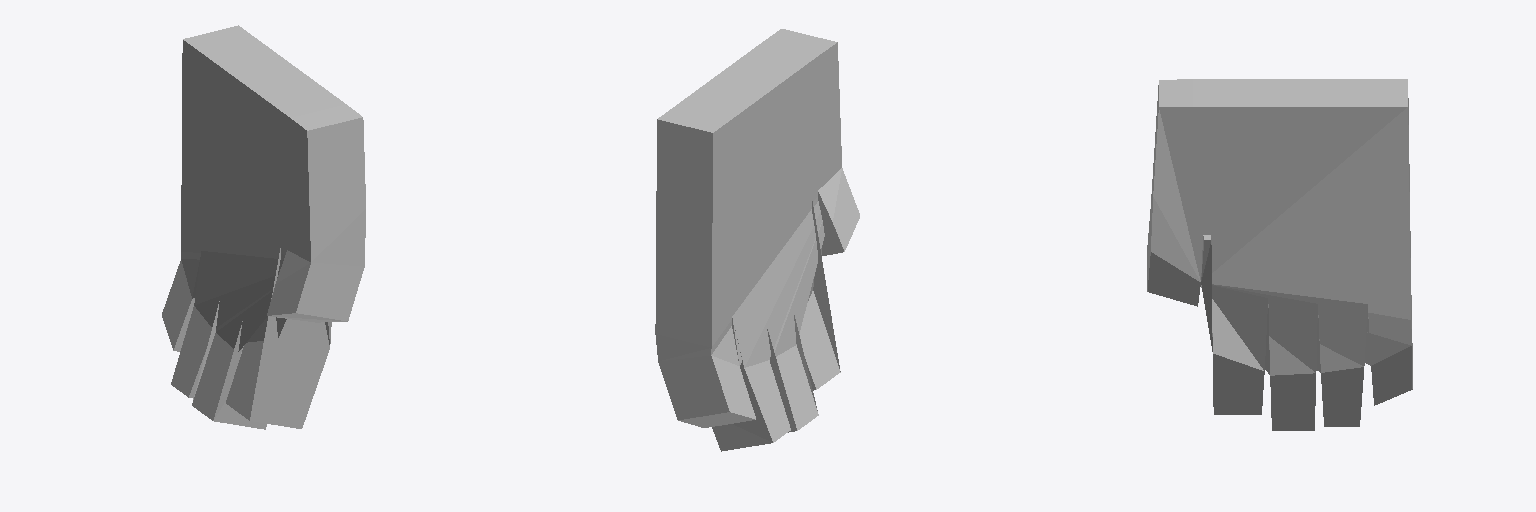
The model's file is left_hand.obj.
The picture shows the model from 3 angles: view 1: azimuth 30°, elevation 25°; view 2: azimuth 150°, elevation 25°; view 3: azimuth 270°, elevation 25°; orthographic projection.
Visible parts, largest first — view 1: Cube.001; view 2: Cube.001; view 3: Cube.001.
Part boxes in pixels (x1,y1,x2,y2): Cube.001: (162,25,365,429); Cube.001: (655,29,859,451); Cube.001: (1147,79,1412,430).
Bounding box in the file's own units: 0.4481 × 1.57 × 1.1.